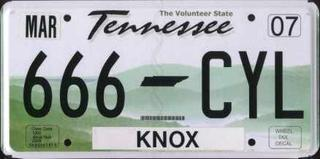placa de veiculo: (7, 2, 315, 153)
